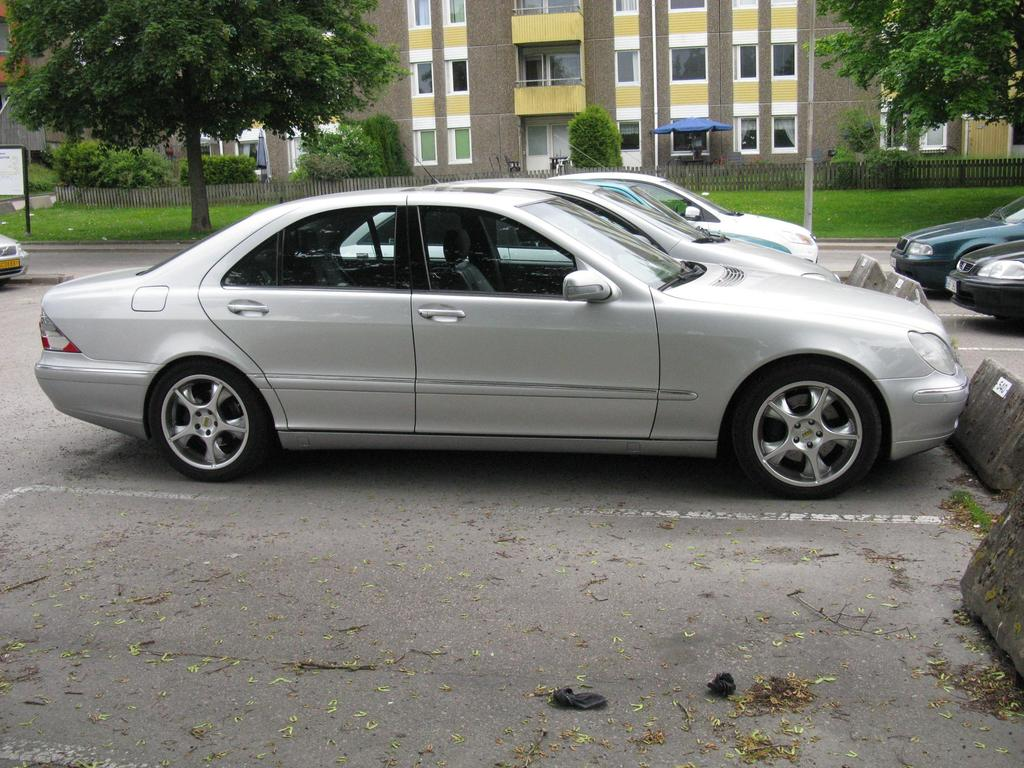Car: (31, 172, 987, 503), (336, 142, 838, 279), (544, 129, 819, 264), (563, 176, 793, 252), (887, 197, 1023, 295), (944, 233, 1023, 317), (0, 231, 30, 284)
